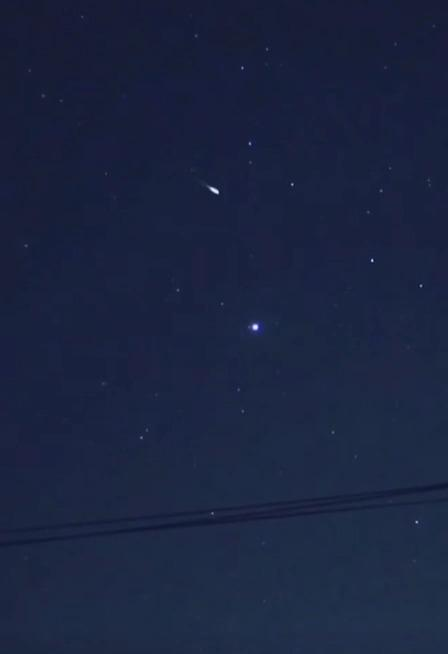meteorite: (184, 175, 232, 202)
